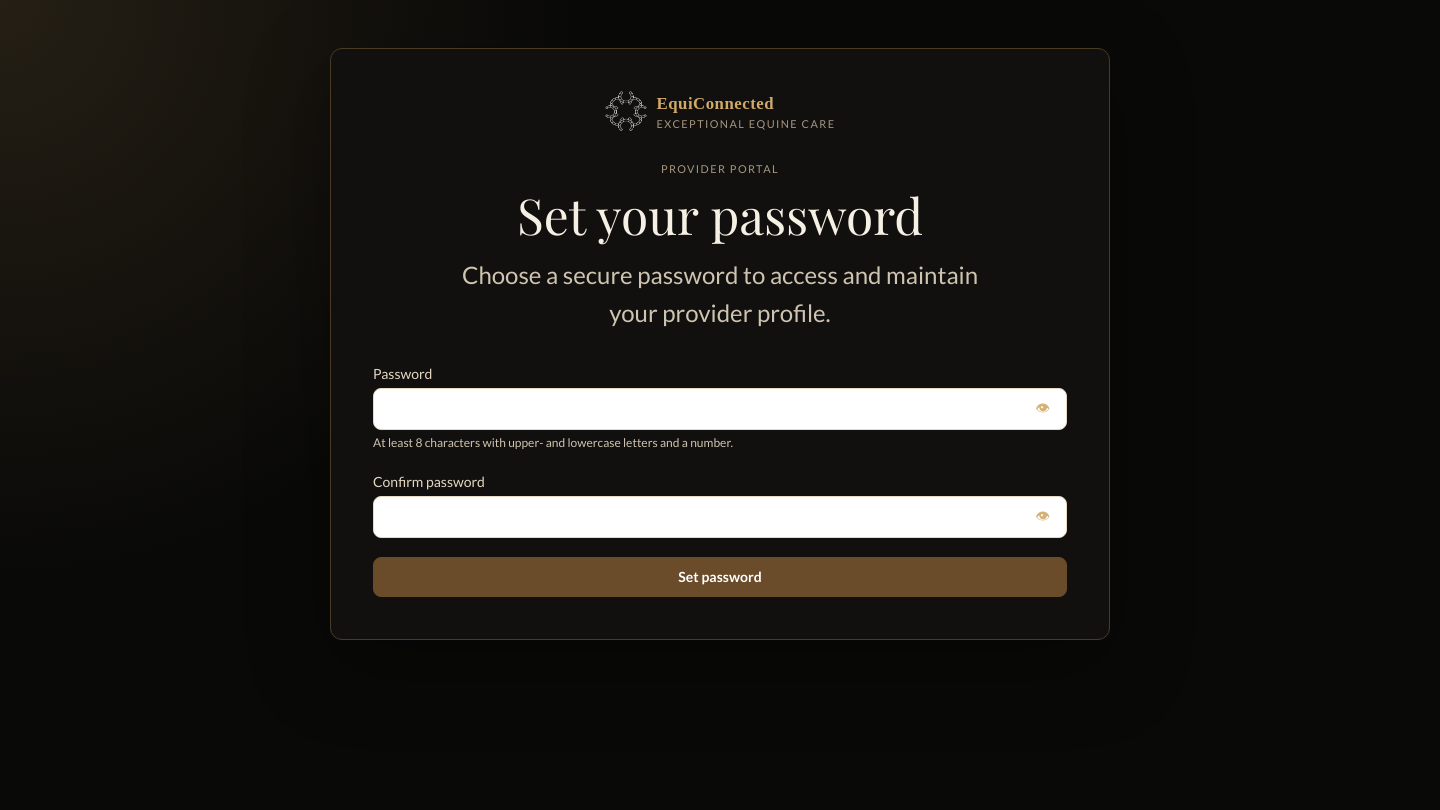
Test: ProviderPasswordSetupPage › classifies invalid failures and permits retry without clearing entered values
The width and height of the screenshot is (1440, 810).
Type "SyntheticSetup9" into the password field labelled "Password" at (703, 409), box [374,389,1031,429]
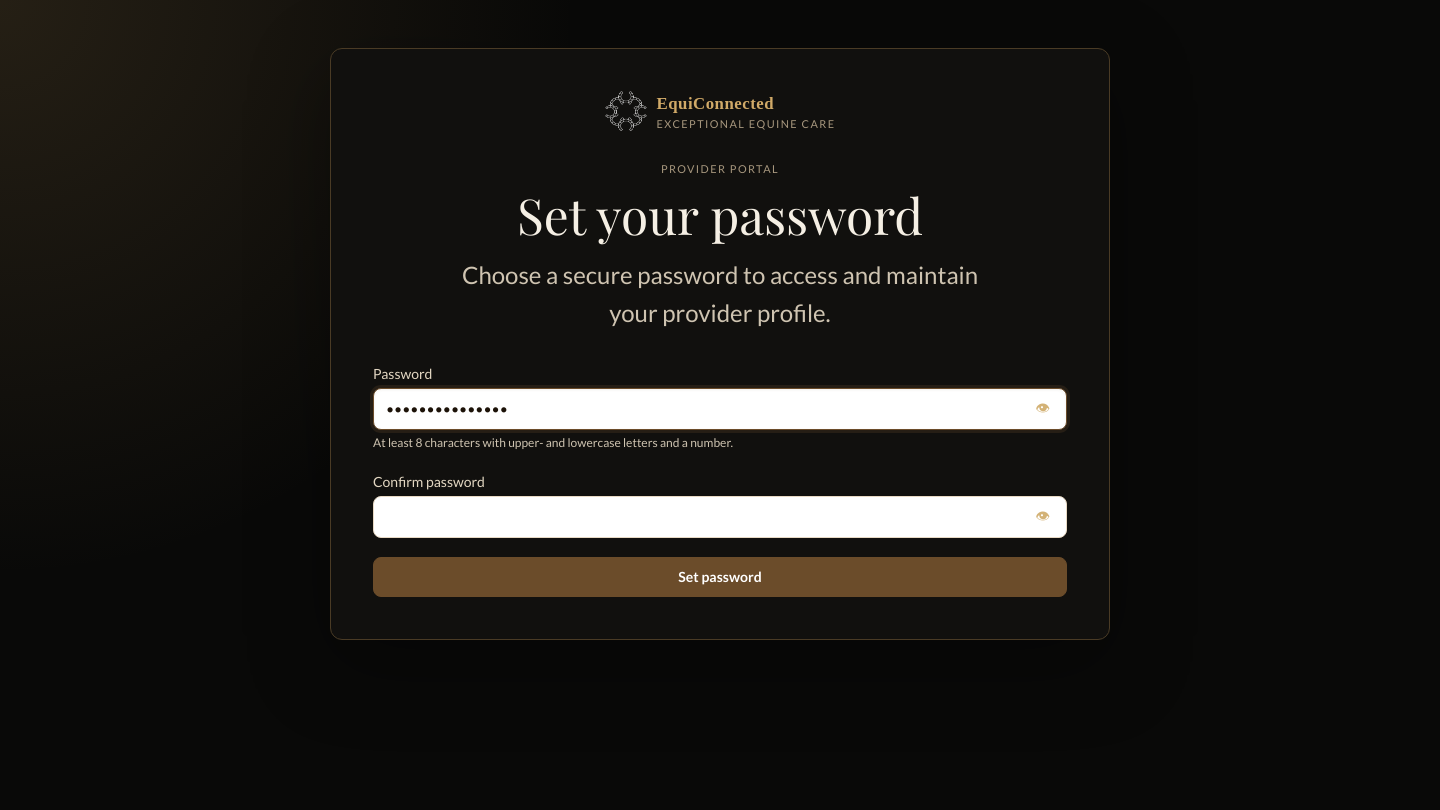
Type "SyntheticSetup9" into the password field labelled "Confirm password" at (703, 517), box [374,497,1031,537]
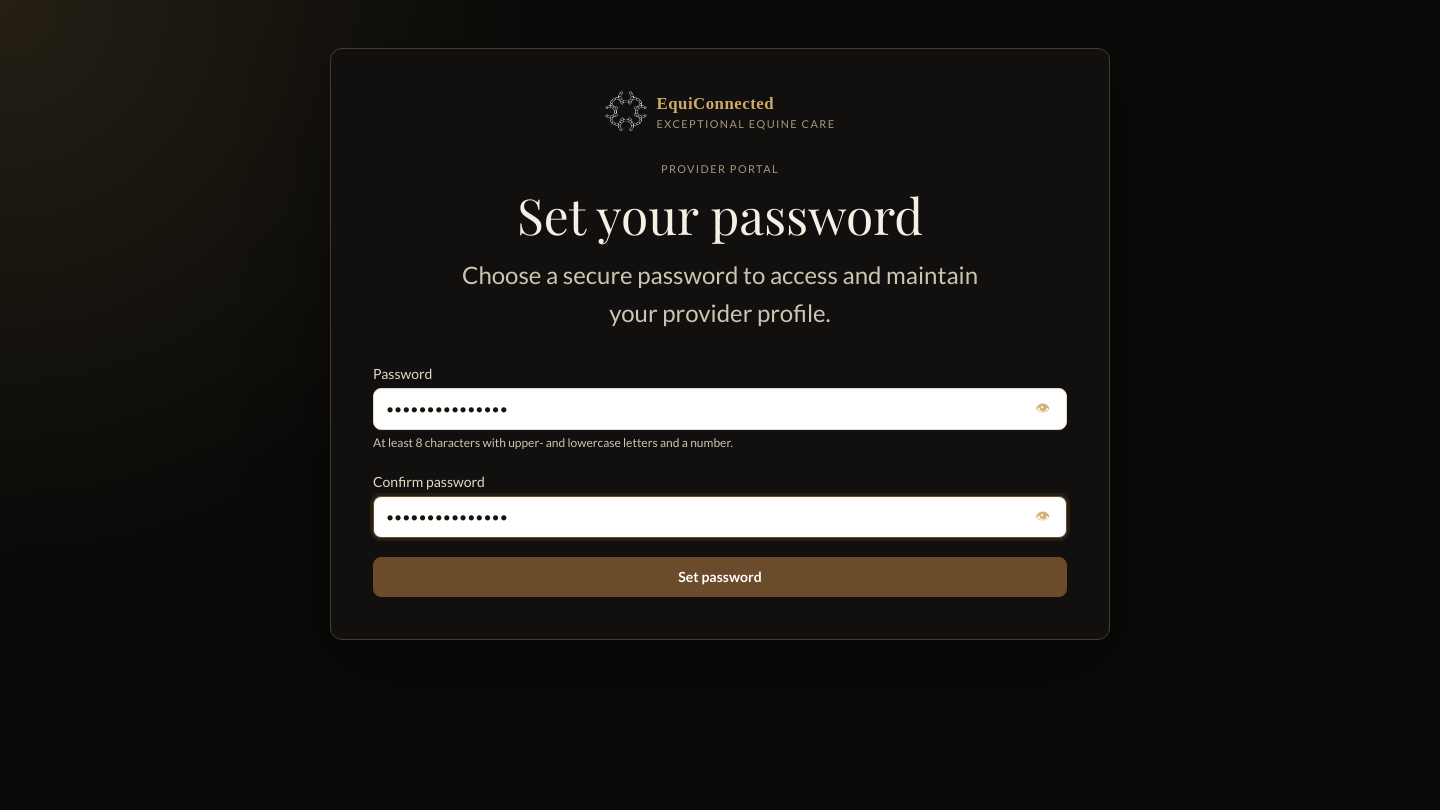
Click the button "Set password" at (720, 577), box [373,557,1067,597]
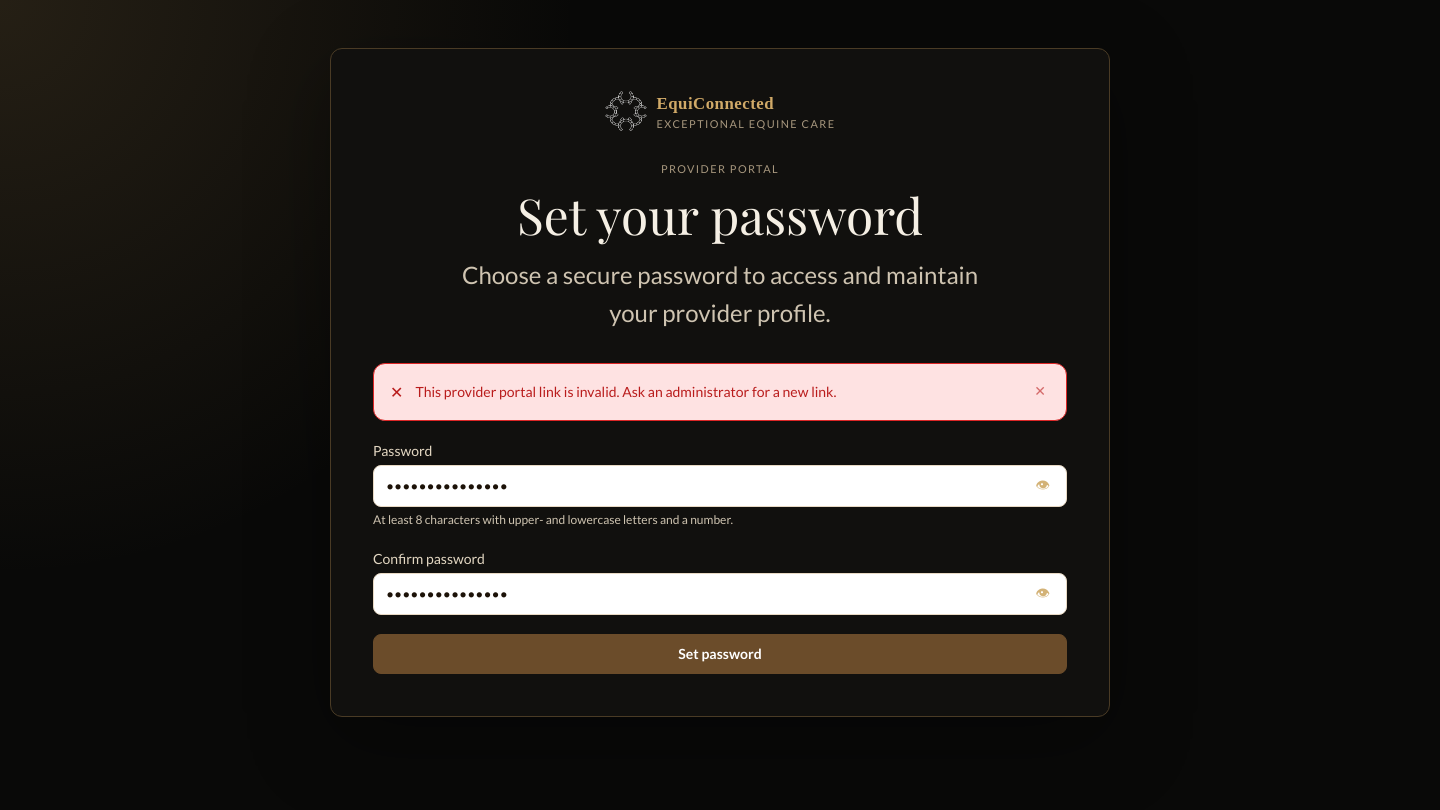
Expected: the heading "Password set" is not shown
Expected: the message shows "link is invalid", [415,383,836,400]
Click the button "Set password" at (720, 654), box [373,634,1067,674]
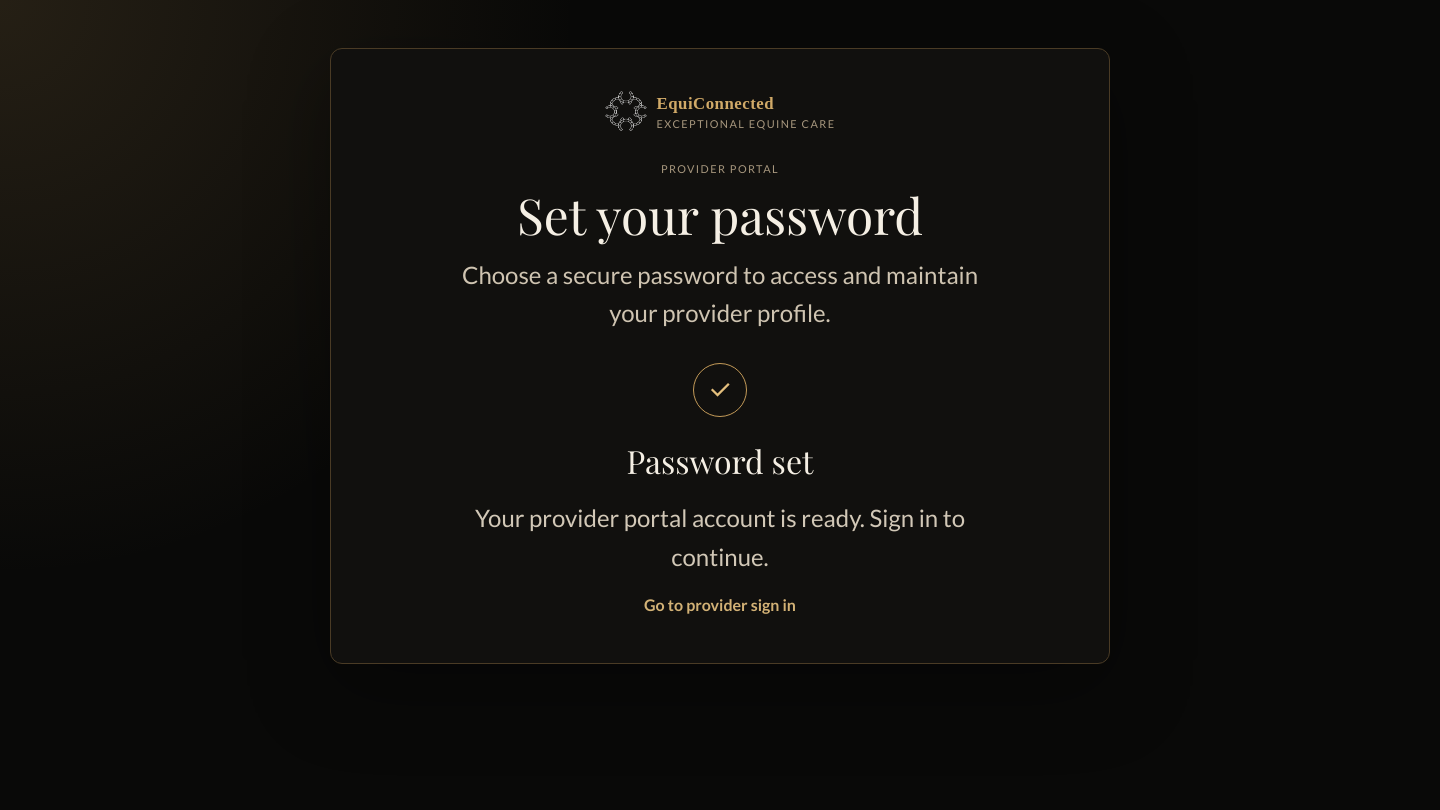
Expected: the heading "Password set" is shown, [626,439,813,482]
